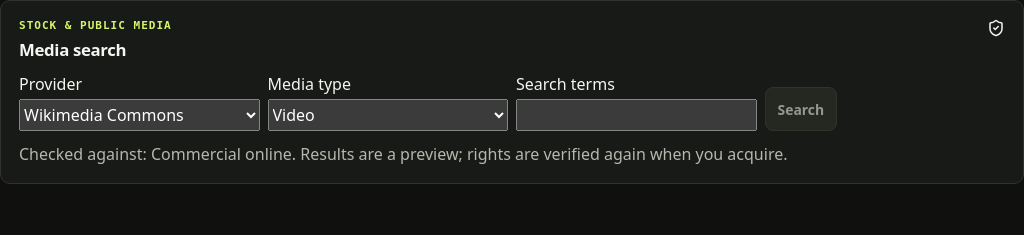
RightsPanel › flags providers that need an API key
The image size is (1024, 235).
Select "Pexels (needs API key)" in the dropdown labelled "Provider" at (139, 115), box 19,99 -> 260,131
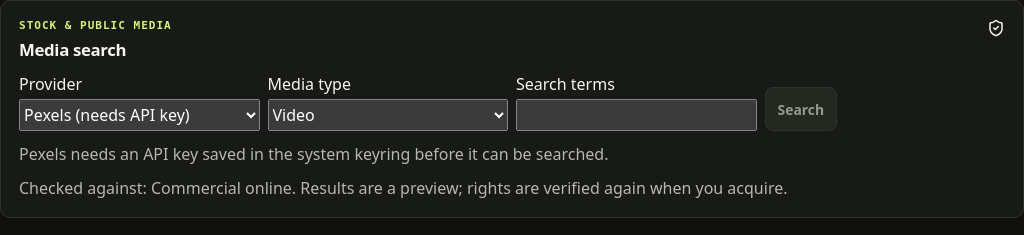
Expected: the text "Pexels needs an API key" is shown, 19,143 -> 608,165
